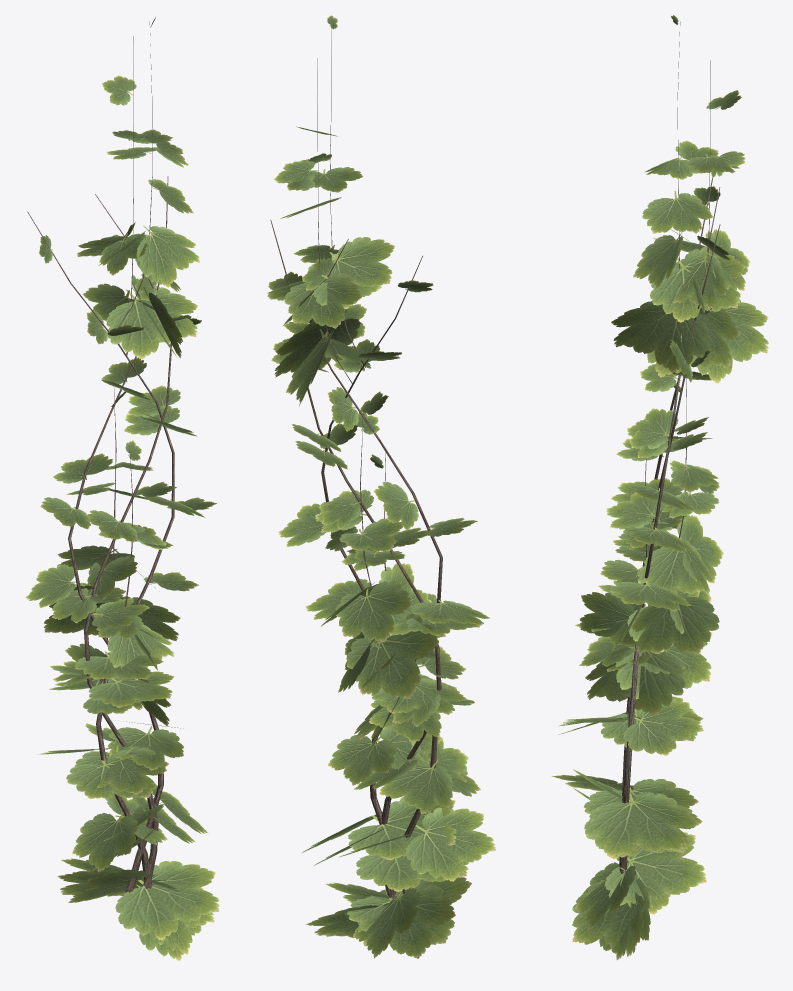
File: Climbing01.fbx
The picture shows the model from 3 angles, left to right: view 1: azimuth 30°, elevation 25°; view 2: azimuth 150°, elevation 25°; view 3: azimuth 270°, elevation 25°; orthographic projection. The views are drawn at different scales.
Visible parts, largest first — view 1: climbing01; view 2: climbing01; view 3: climbing01.
Boxes of the visible parts, left/top/right/bottom form: climbing01: left=25, top=17, right=219, bottom=960; climbing01: left=267, top=15, right=495, bottom=958; climbing01: left=551, top=15, right=768, bottom=959.
Bounding box in the file's own units: 300 × 1307 × 301.
